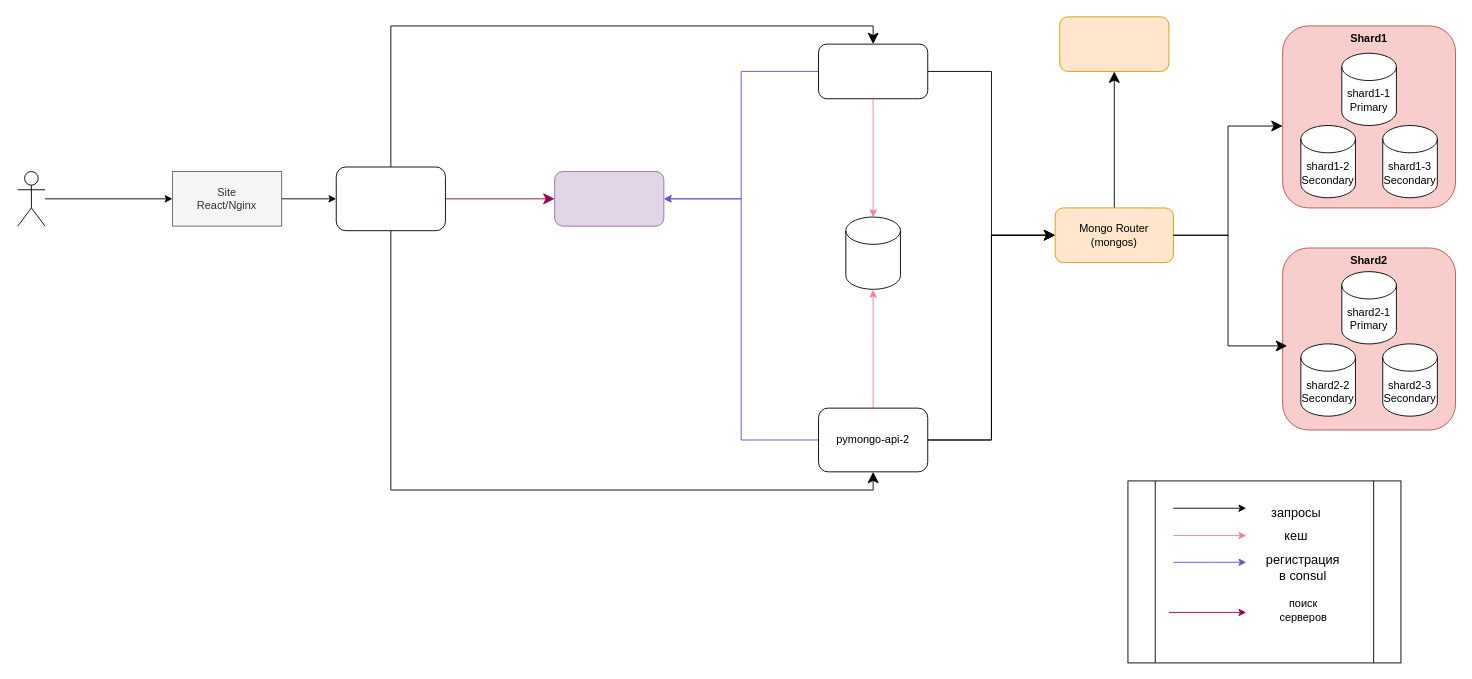
Some shapes in this 1472 by 679 pixel diagram are drawn without their labels. The box of each missing label's shape, as (x1, y1, x2, y2) in pixels:
API Gateway: (335, 166, 445, 231)
Client: (17, 171, 45, 226)
configSrv: (1059, 16, 1169, 71)
Consul: (554, 171, 664, 226)
pymongo-api-1: (818, 43, 928, 99)
redis cash: (845, 216, 900, 289)
